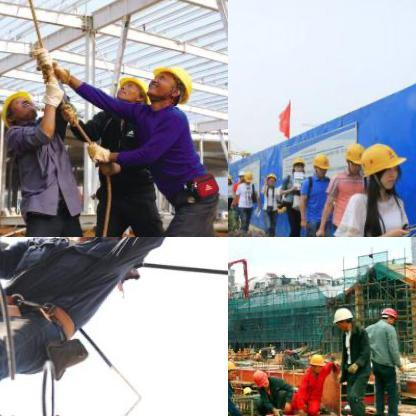Helmet: (358, 140, 404, 190), (143, 63, 193, 106), (0, 86, 38, 122), (113, 72, 147, 102), (340, 138, 364, 176), (332, 304, 354, 329), (250, 366, 272, 388), (312, 151, 330, 177), (306, 350, 326, 372), (379, 304, 399, 326), (291, 155, 305, 175), (228, 356, 239, 381), (262, 170, 276, 184), (242, 168, 252, 184), (228, 170, 232, 185)
